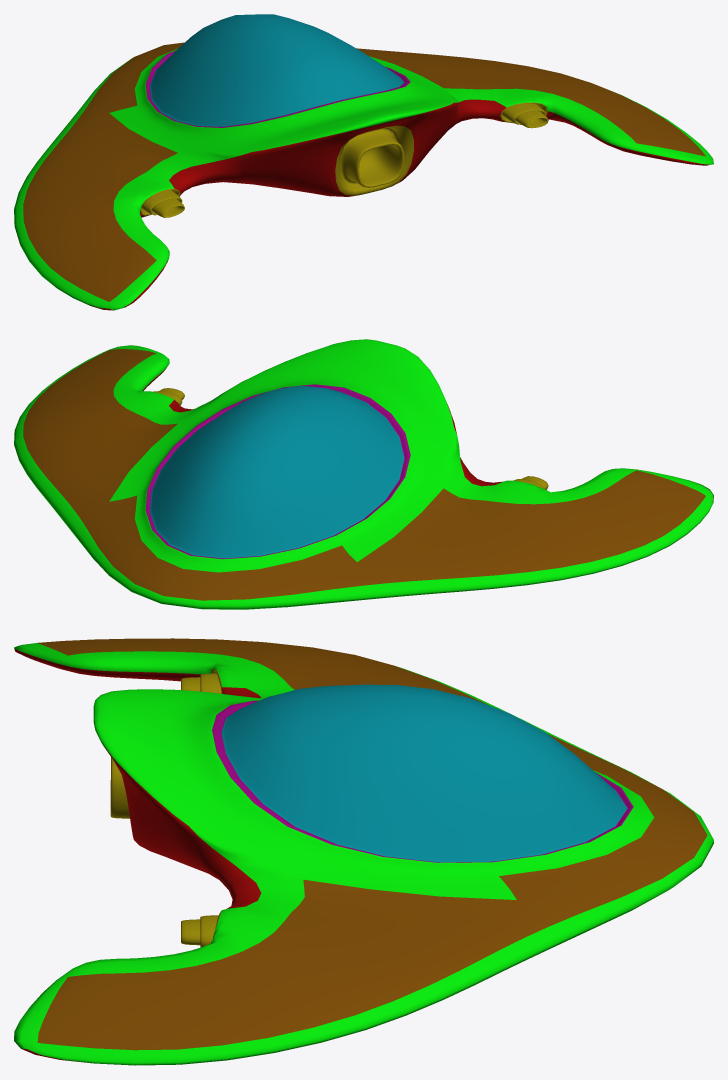
The model's file is p_spaceship_003.FBX.
The picture shows the model from 3 angles, top to bottom: view 1: azimuth 30°, elevation 25°; view 2: azimuth 150°, elevation 25°; view 3: azimuth 270°, elevation 25°; orthographic projection. The views are drawn at different scales.
Parts seen in each view (by area): view 1: space_ship; view 2: space_ship; view 3: space_ship.
Boxes of the visible parts, box(x1,y1,x2,y2) form: space_ship: box(14, 14, 713, 310); space_ship: box(14, 339, 713, 609); space_ship: box(14, 638, 713, 1065).
Bounding box in the file's own units: 56.84 × 10.11 × 39.82.
